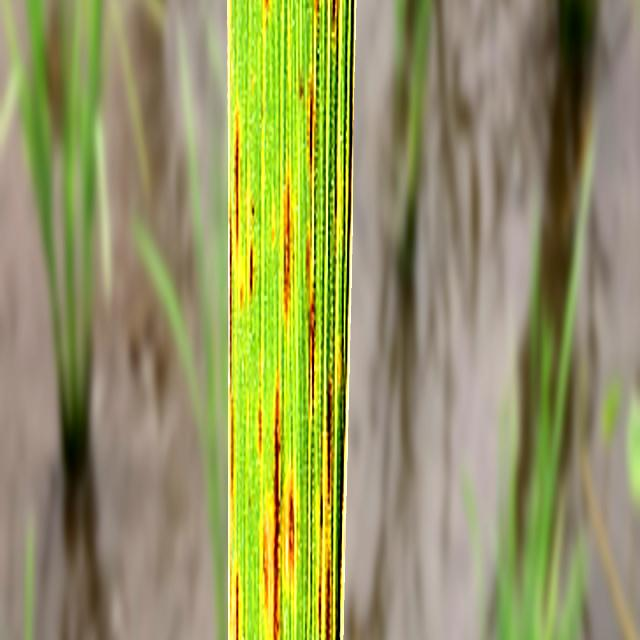NBS: (228, 213, 240, 640), (324, 375, 333, 640), (234, 107, 245, 317), (272, 378, 280, 640), (306, 232, 316, 425), (263, 492, 272, 640), (317, 475, 324, 640), (285, 472, 295, 582), (284, 174, 290, 317), (308, 85, 316, 175), (256, 390, 263, 463), (248, 234, 254, 303), (330, 0, 340, 39), (299, 75, 304, 101), (263, 0, 271, 15), (251, 197, 255, 221), (314, 0, 319, 18), (248, 493, 251, 507)
